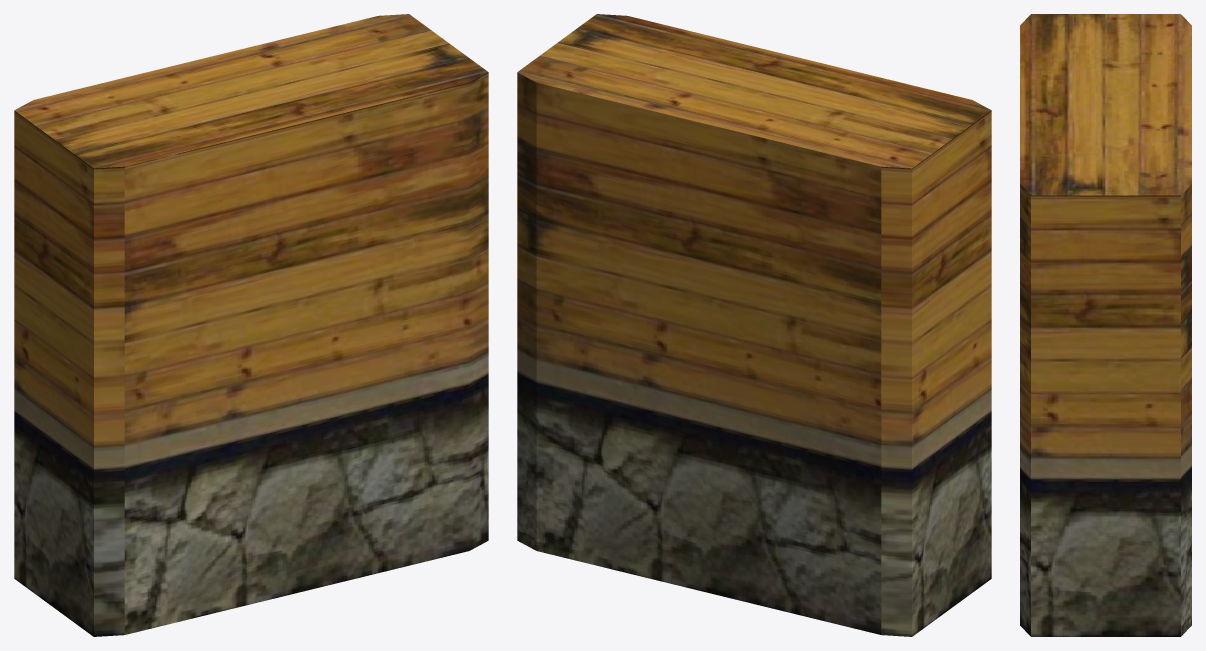
Rendered from Cerco_Piedra_Madera_3.fbx.
3 views of the same model, side by side, from view 1: azimuth 30°, elevation 25°; view 2: azimuth 150°, elevation 25°; view 3: azimuth 270°, elevation 25° (orthographic). The views are drawn at different scales.
Visible parts, largest first — view 1: Cerco_Piedra_Madera_3; view 2: Cerco_Piedra_Madera_3; view 3: Cerco_Piedra_Madera_3.
Part boxes in pixels (<box>): Cerco_Piedra_Madera_3: <box>14,14,488,636</box>; Cerco_Piedra_Madera_3: <box>517,14,991,636</box>; Cerco_Piedra_Madera_3: <box>1020,14,1191,636</box>.
Bounding box in the file's own units: 1.5 × 0.6 × 1.7.
Materials: 1 (1 with a texture image).
